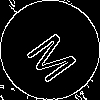M: (25, 25, 86, 86)
